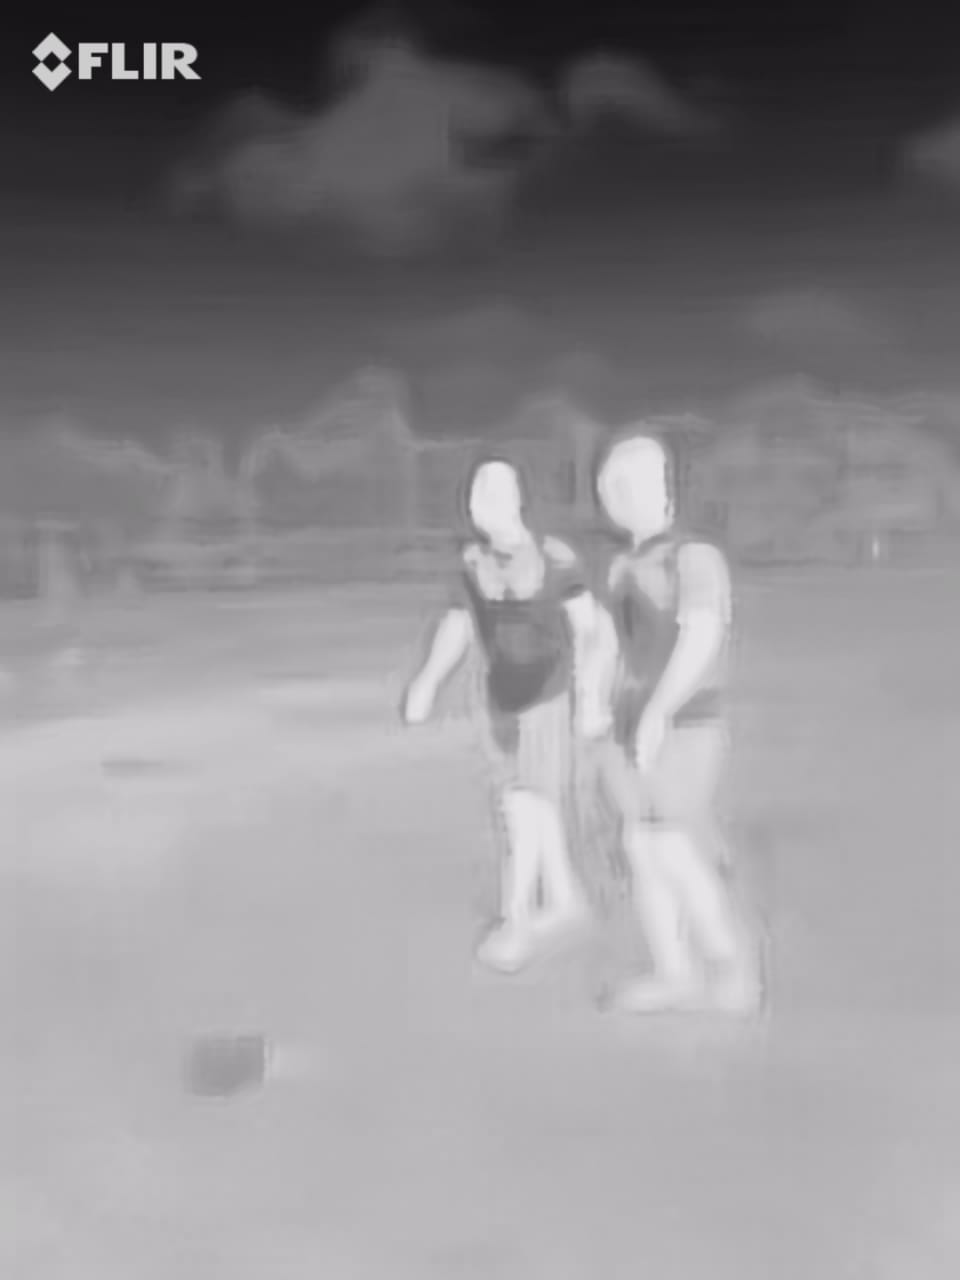head: (587, 435, 676, 535)
